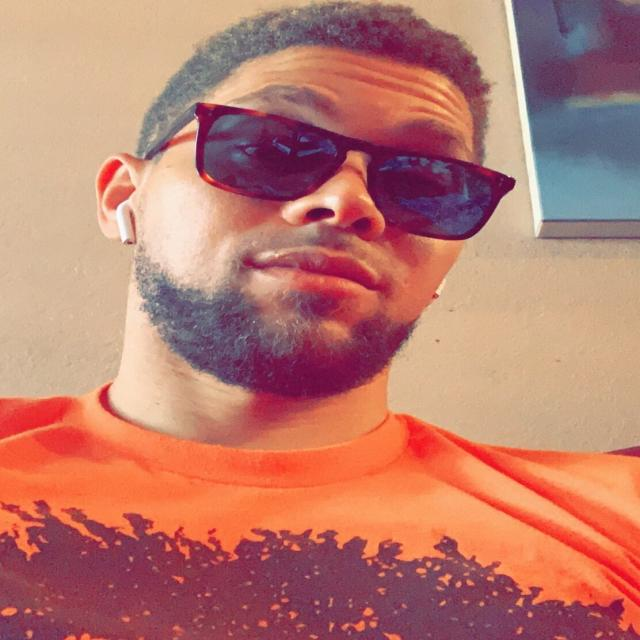2_gafas: (152, 100, 516, 241)
